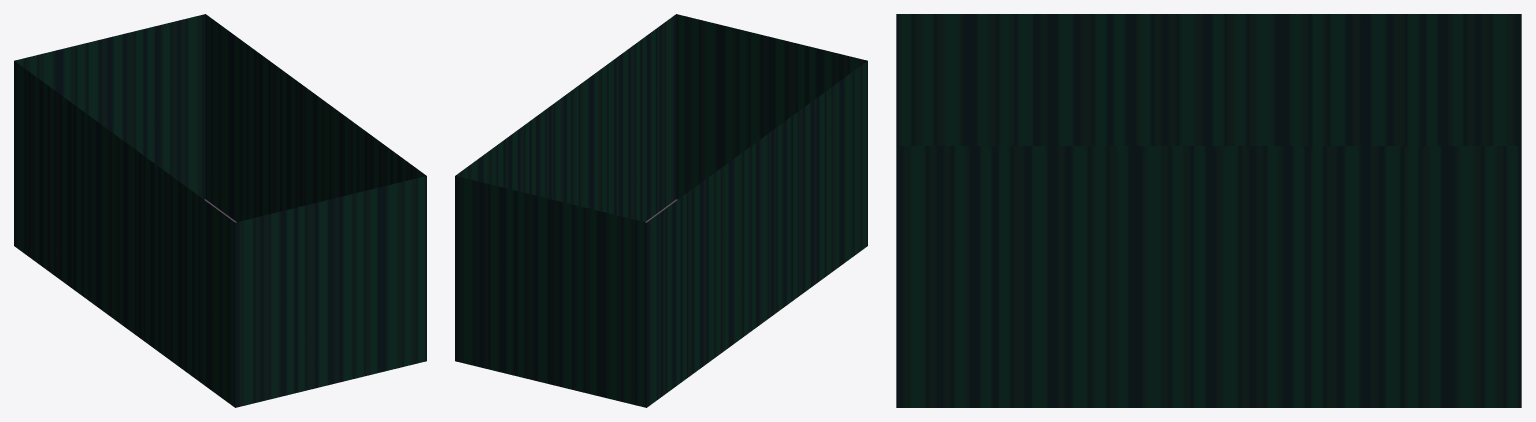
File: stage1.fbx
3 views of the same model, side by side, from view 1: azimuth 30°, elevation 25°; view 2: azimuth 150°, elevation 25°; view 3: azimuth 270°, elevation 25° (orthographic). The views are drawn at different scales.
Visible parts, largest first — view 1: bambooMesh; view 2: bambooMesh; view 3: bambooMesh.
Boxes of the visible parts, box(x1,y1,x2,y2) form: bambooMesh: box(14, 14, 426, 407); bambooMesh: box(455, 14, 867, 407); bambooMesh: box(896, 14, 1521, 407).
Size of the model in its own units: 451 by 417 by 902.
Materials: 1 (1 with a texture image).
